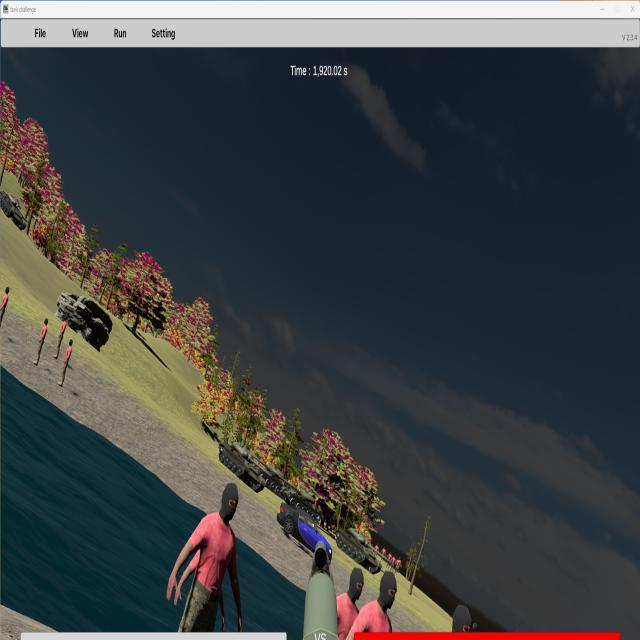Human: (167, 480, 243, 633), (336, 570, 402, 640), (329, 564, 381, 640), (0, 285, 10, 335)
Tank: (217, 438, 268, 494), (335, 526, 387, 575), (0, 184, 29, 231)
car: (277, 503, 333, 570)
